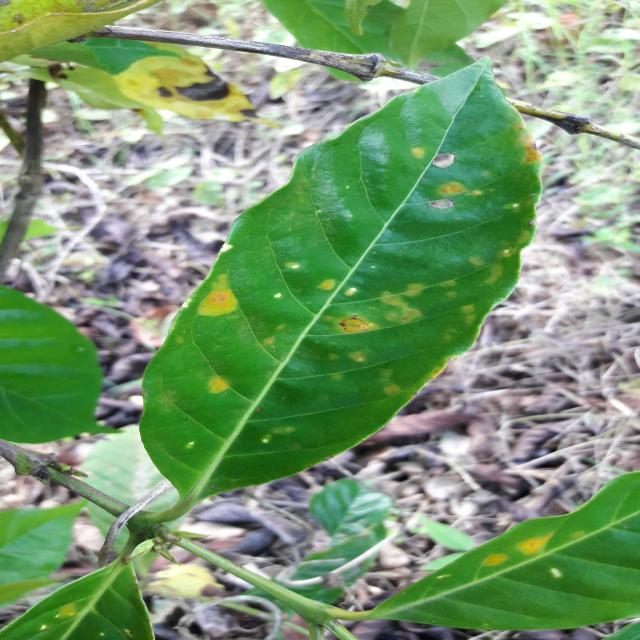Enfermedad-Roya: (138, 61, 543, 524)
